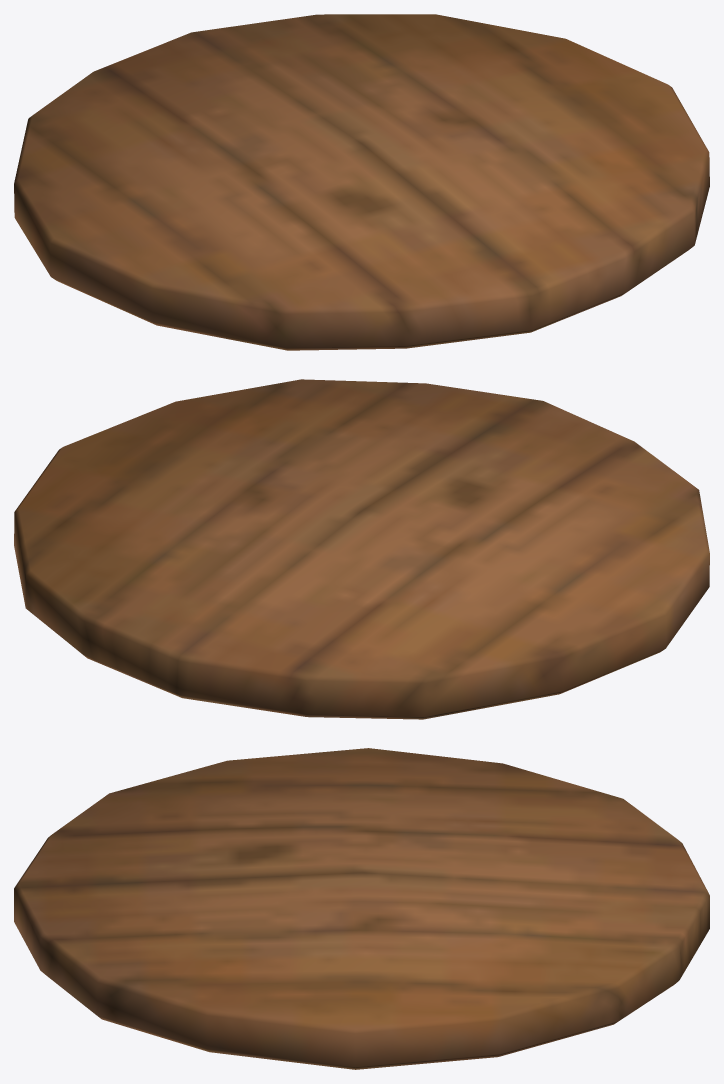
File: ShieldWood.fbx
3 renders of one model, top to bottom at view 1: azimuth 30°, elevation 25°; view 2: azimuth 150°, elevation 25°; view 3: azimuth 270°, elevation 25°, orthographic. The views are drawn at different scales.
Visible parts, largest first — view 1: model; view 2: model; view 3: model.
Boxes of the visible parts, left/top/right/bottom form: model: left=14, top=14, right=709, bottom=350; model: left=14, top=379, right=709, bottom=719; model: left=14, top=748, right=709, bottom=1069.
Size of the model in its own units: 0.8155 by 0.0955 by 0.8151.
Materials: 1 (1 with a texture image).
